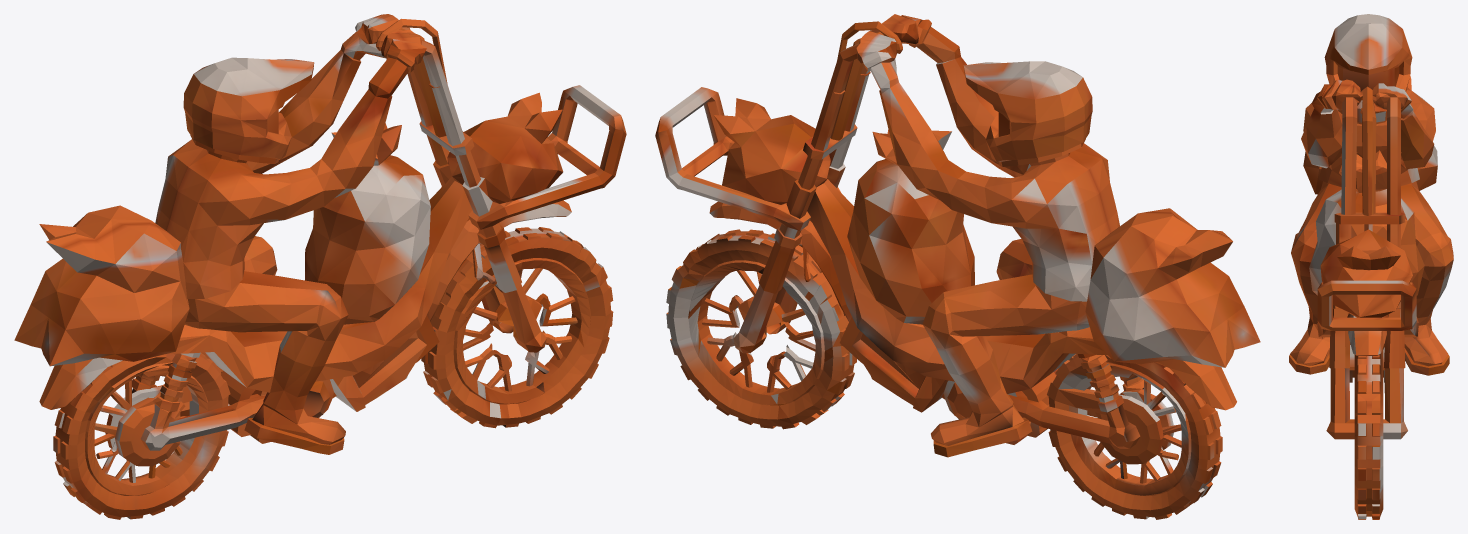
Rendered from motor balap.obj.
The picture shows the model from 3 angles, left to right: view 1: azimuth 30°, elevation 25°; view 2: azimuth 150°, elevation 25°; view 3: azimuth 270°, elevation 25°; orthographic projection. The views are drawn at different scales.
Parts seen in each view (by area): view 1: texture_pbr_v128; view 2: texture_pbr_v128; view 3: texture_pbr_v128.
Part boxes in pixels (box(x1,y1,x2,y2)): texture_pbr_v128: box(14, 14, 626, 519); texture_pbr_v128: box(655, 14, 1260, 519); texture_pbr_v128: box(1289, 14, 1453, 519).
Bounding box in the file's own units: 1.08 × 0.7719 × 0.3078.
